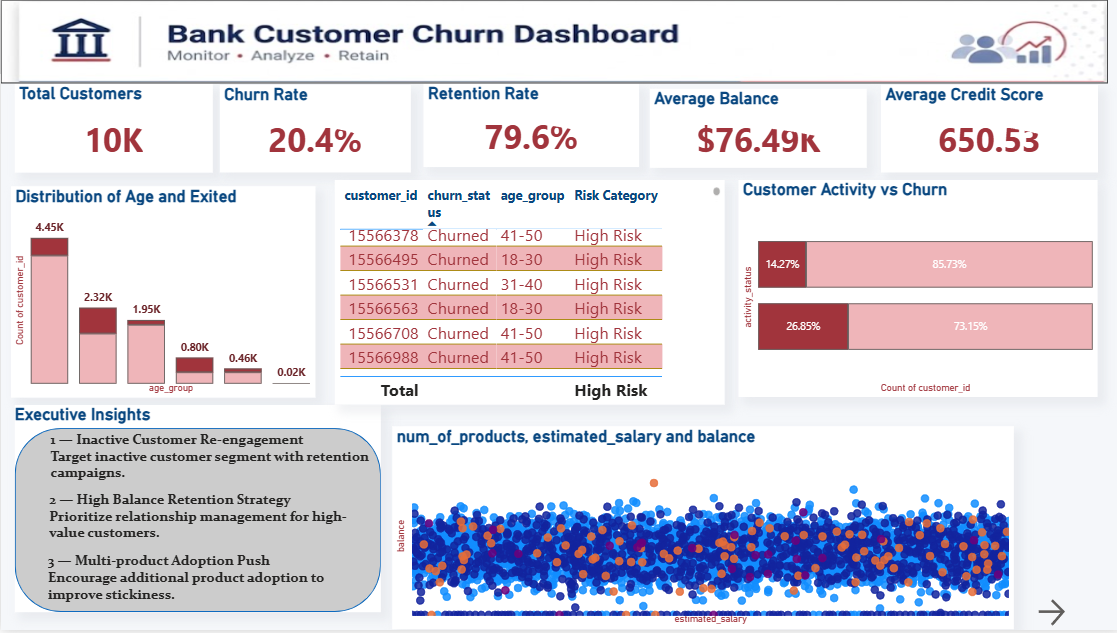

The dashboard page shown, as its layout file describes it:
{"tool":"powerbi","page":{"name":"Executive Summary page","canvas":[1280,720],"ordinal":0},"visuals":[{"type":"cardVisual","title":"Total Customers","fields":{"Data":["fact_customer_churn.TotalCustomers"]},"box":[15,15,226.7,101.7],"z":0},{"type":"cardVisual","title":"Churn Rate","fields":{"Data":["fact_customer_churn.Churn Rate"]},"box":[251.1,13.7,218.2,100.2],"z":1000},{"type":"cardVisual","title":"Retention Rate","fields":{"Data":["fact_customer_churn.RetentionRate"]},"box":[483,13.7,247,100.2],"z":2000},{"type":"cardVisual","title":"Average Balance","fields":{"Data":["fact_customer_churn.Average Balance"]},"box":[748.3,16.7,248.3,100],"z":3000},{"type":"cardVisual","title":"Average Credit Score","fields":{"Data":["fact_customer_churn.Average Credit Score"]},"box":[1014.1,15.1,247,100.2],"z":4000},{"type":"clusteredBarChart","title":"Churn Rate by Balance group","fields":{"Y":["fact_customer_churn.Churn Rate"],"Category":["fact_customer_churn.balance_group"]},"box":[11.7,140,348.3,288.3],"z":5000},{"type":"shape","title":"Executive Insights","box":[28.8,454.2,404.8,245.6],"z":6000},{"type":"scatterChart","fields":{"X":["fact_customer_churn.estimated_salary"],"Y":["fact_customer_churn.balance"],"Series":["fact_customer_churn.num_of_products"]},"box":[446.7,463.3,710,255],"z":7000},{"type":"textbox","box":[50.8,487.1,396.6,67.2],"z":8000},{"type":"textbox","box":[49.4,555.7,384.2,68.6],"z":9000},{"type":"textbox","box":[48,625.7,385.6,85.1],"z":10000},{"type":"tableEx","fields":{"Values":["fact_customer_churn.customer_id","fact_customer_churn.churn_status","fact_customer_churn.age_group","fact_customer_churn.Risk Category"]},"box":[376.7,136.7,441.7,303.3],"z":11000},{"type":"hundredPercentStackedBarChart","title":"Customer Activity vs Churn","fields":{"Category":["fact_customer_churn.activity_status"],"Series":["fact_customer_churn.churn_status"],"Y":["CountNonNull(fact_customer_churn.customer_id)"]},"box":[851.7,140,410,300],"z":12000},{"type":"actionButton","box":[1180,680,100,40],"z":13000}]}

Visuals, with their boxes in screenshot pixels (x1, y1, x2, y2), scaled from the page's 1280x720 canvas onto the 1117x633 screenshot:
"Total Customers" cardVisual: (x1=13, y1=13, x2=211, y2=103)
"Churn Rate" cardVisual: (x1=219, y1=12, x2=410, y2=100)
"Retention Rate" cardVisual: (x1=421, y1=12, x2=637, y2=100)
"Average Balance" cardVisual: (x1=653, y1=15, x2=870, y2=103)
"Average Credit Score" cardVisual: (x1=885, y1=13, x2=1101, y2=101)
"Churn Rate by Balance group" clusteredBarChart: (x1=10, y1=123, x2=314, y2=377)
"Executive Insights" shape: (x1=25, y1=399, x2=378, y2=615)
scatterChart - fact_customer_churn.estimated_salary x fact_customer_churn.balance: (x1=390, y1=407, x2=1009, y2=632)
textbox: (x1=44, y1=428, x2=390, y2=487)
textbox: (x1=43, y1=489, x2=378, y2=549)
textbox: (x1=42, y1=550, x2=378, y2=625)
tableEx - fact_customer_churn.customer_id x fact_customer_churn.churn_status: (x1=329, y1=120, x2=714, y2=387)
"Customer Activity vs Churn" hundredPercentStackedBarChart: (x1=743, y1=123, x2=1101, y2=387)
actionButton: (x1=1030, y1=598, x2=1116, y2=632)
